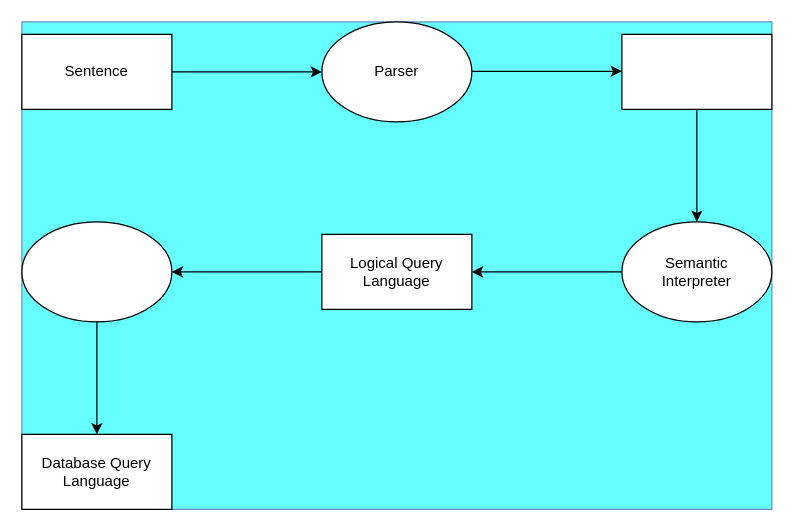
Image size: 794x531. Some labels were removed from this diagram. Here are the shapes that lost their labels. From the top down, the centre of each, then its label:
At [696,71]: "Parse Tree".
At [96,271]: "Database Query Generator".
